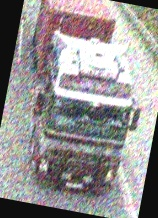truck: (7, 0, 158, 202)
